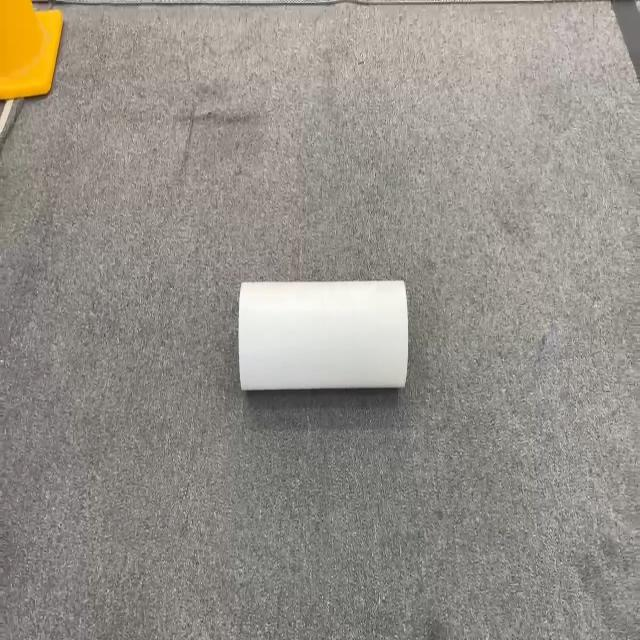coral: (237, 277, 409, 392)
